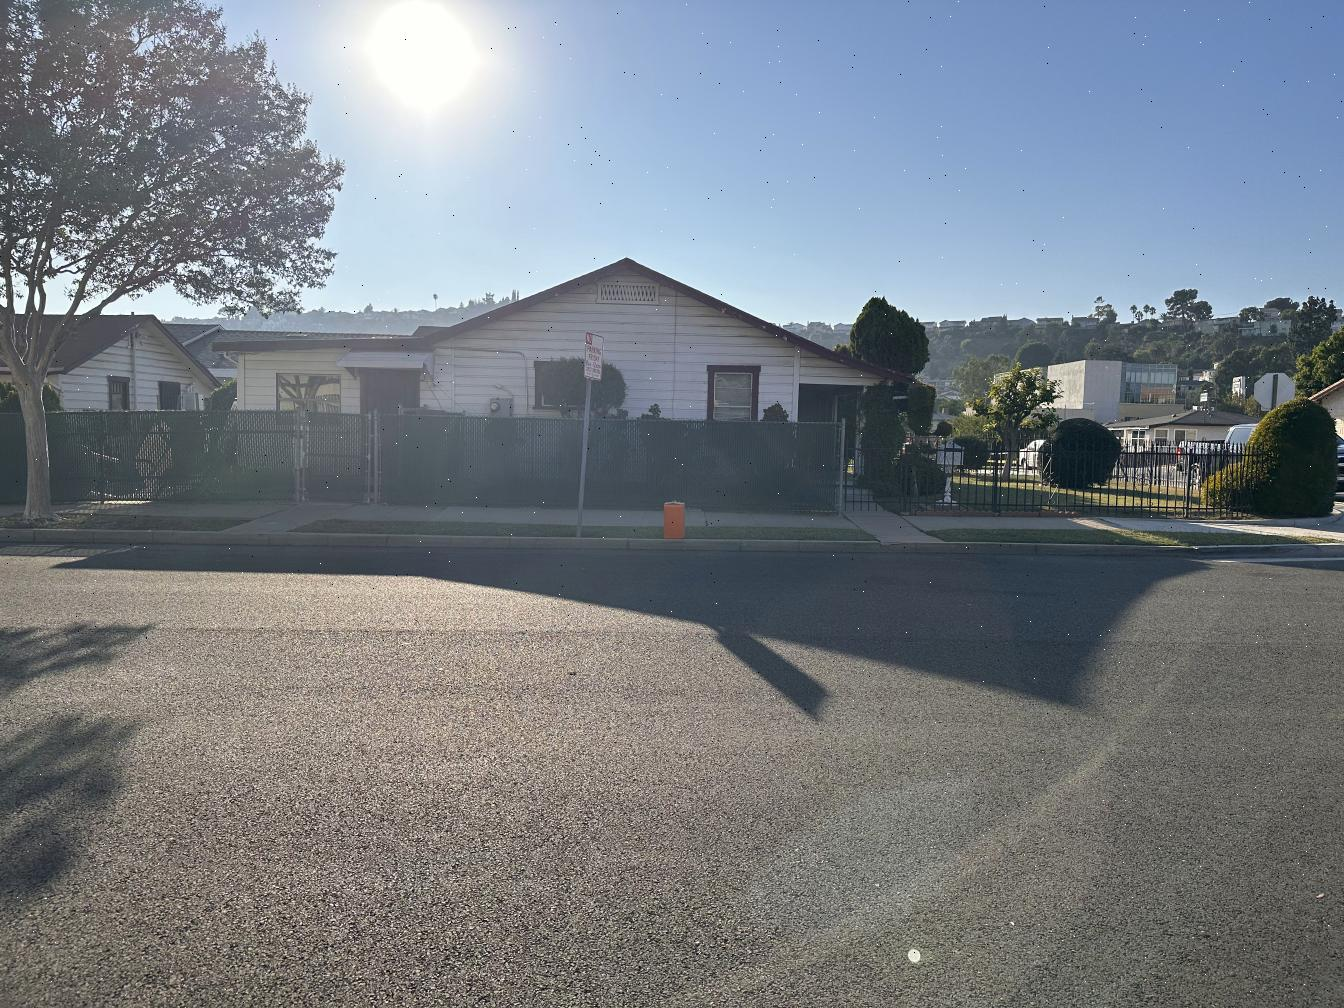curbs-laRr: (589, 536, 1344, 556), (2, 526, 288, 547), (292, 532, 586, 551)
orange box: (665, 503, 686, 539)
